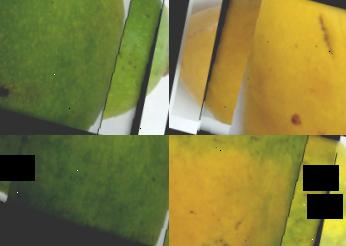Ripe: (192, 0, 346, 135), (169, 135, 344, 246)
Unripe: (0, 0, 169, 135), (0, 135, 169, 246)
